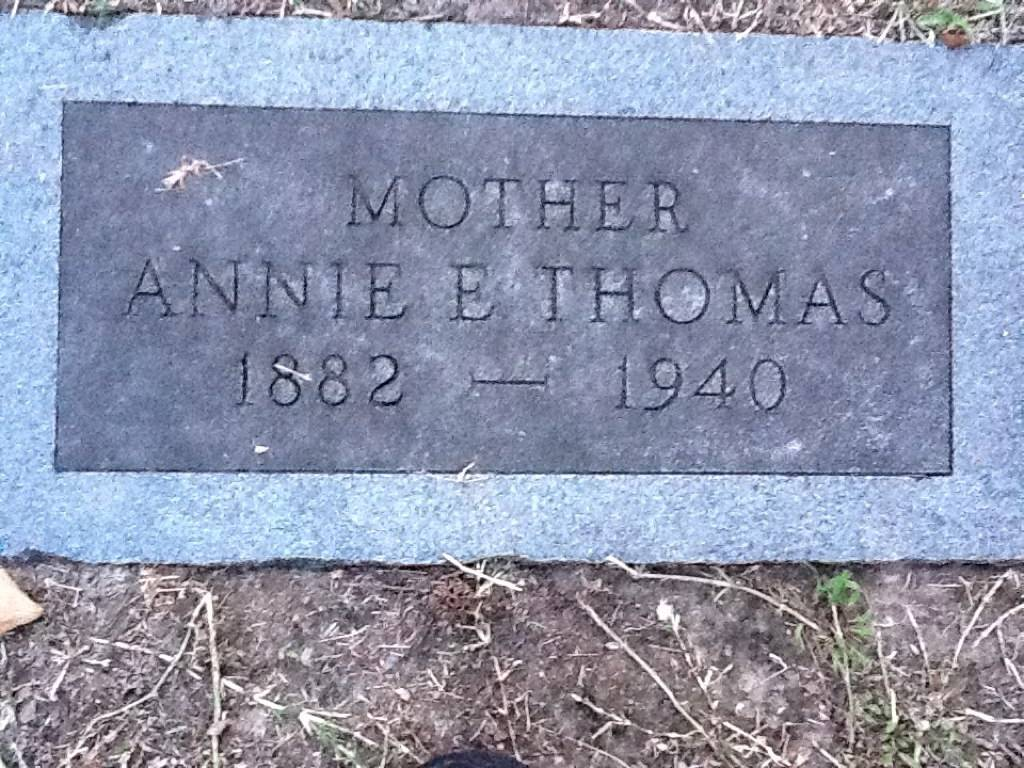flat: (3, 18, 1018, 563)
